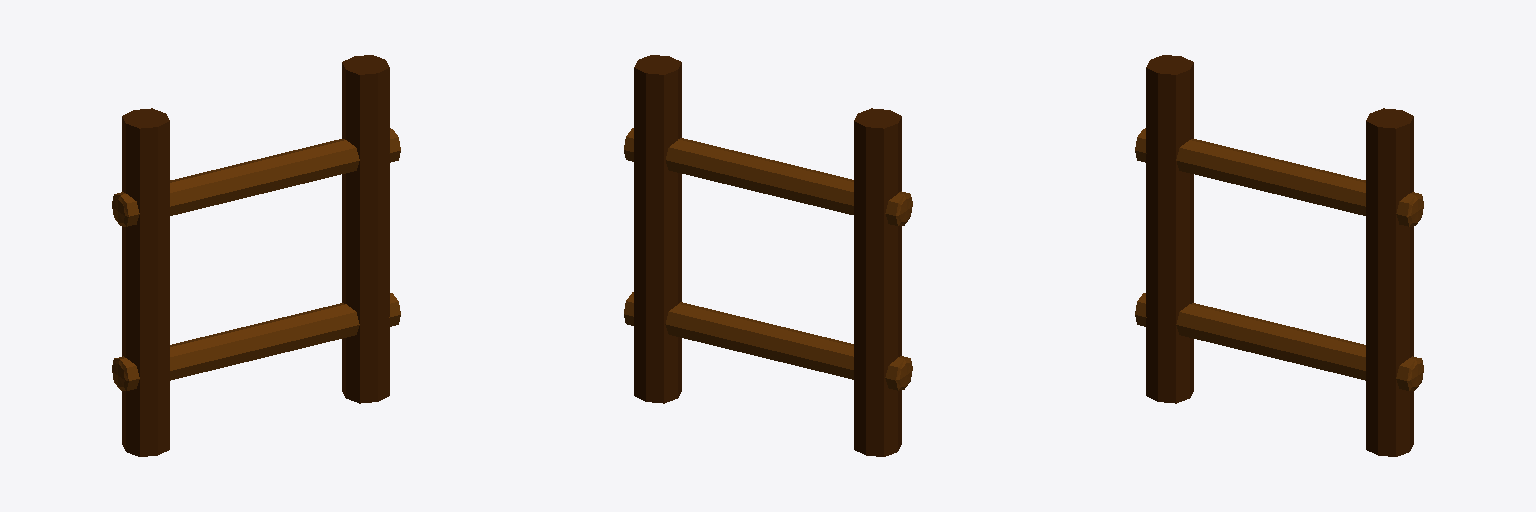
The model's file is Stairs.obj.
3 views of the same model, side by side, from view 1: azimuth 30°, elevation 25°; view 2: azimuth 150°, elevation 25°; view 3: azimuth 330°, elevation 25° (orthographic).
Visible parts, largest first — view 1: Stairs_Cube.162; view 2: Stairs_Cube.162; view 3: Stairs_Cube.162.
Part boxes in pixels (bbox=[...]): Stairs_Cube.162: bbox=[112, 55, 400, 456]; Stairs_Cube.162: bbox=[624, 55, 912, 456]; Stairs_Cube.162: bbox=[1135, 55, 1423, 456].
Bounding box in the file's own units: 1.77 × 2 × 0.2575.